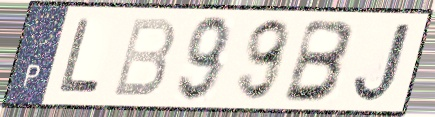9: (176, 12, 236, 105), (233, 17, 294, 104)
B: (280, 17, 357, 104), (109, 16, 179, 100)
J: (349, 20, 415, 105)
L: (55, 16, 103, 97)
